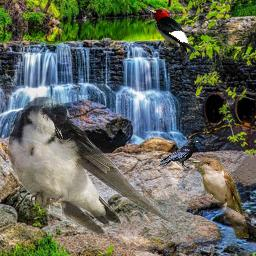Crow: (158, 138, 199, 170)
Cuckoo: (191, 156, 249, 239)
Swallow: (4, 94, 176, 238)
Woodpecker: (145, 8, 197, 65)
